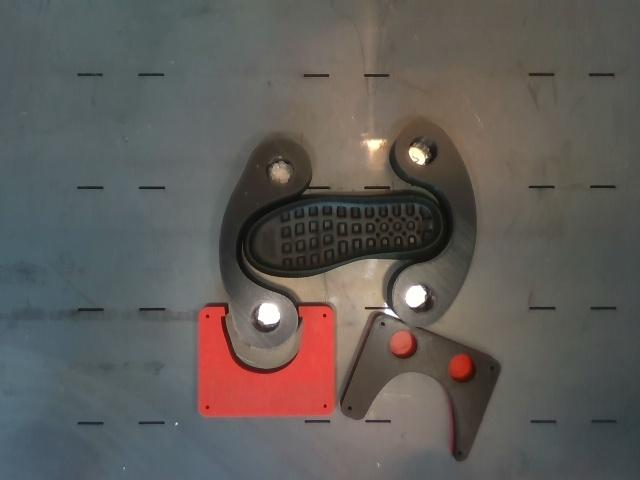shoes: (247, 196, 442, 272)
